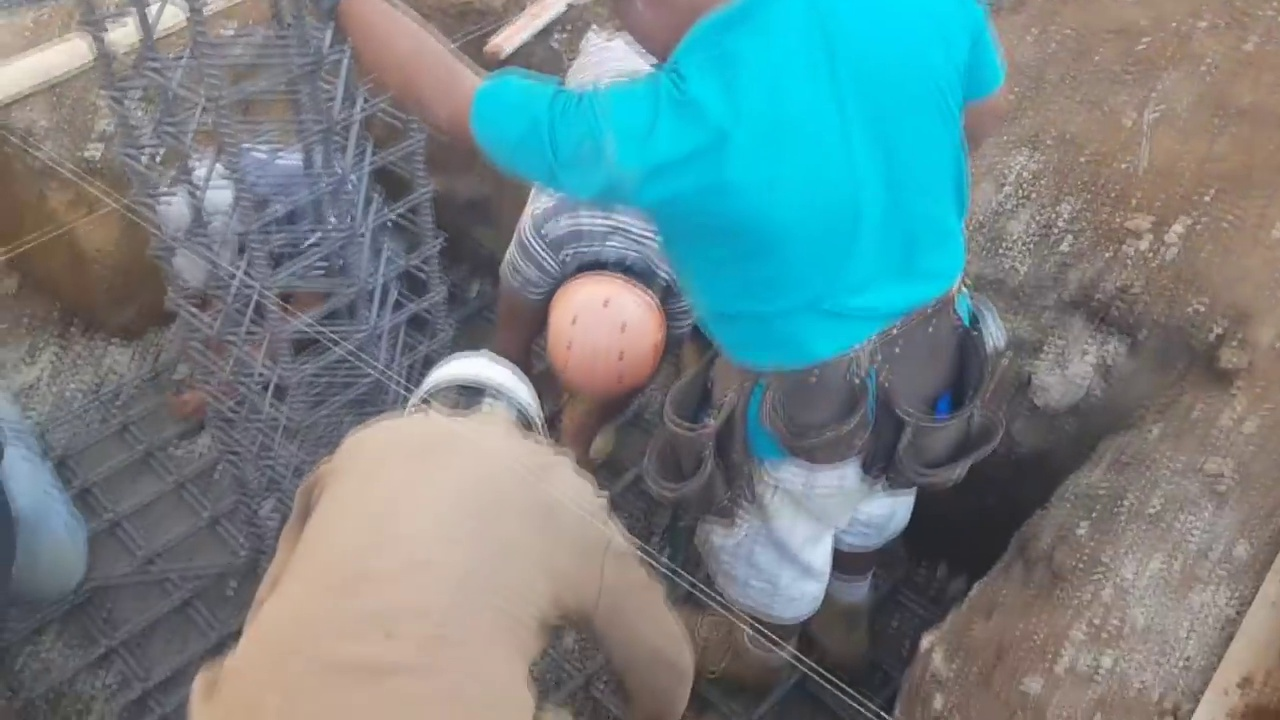helmet: (543, 275, 669, 407)
helmet-on: (541, 245, 681, 418), (404, 351, 545, 437)
person: (341, 5, 1012, 678), (180, 323, 705, 719), (487, 34, 706, 438), (142, 128, 408, 342)
